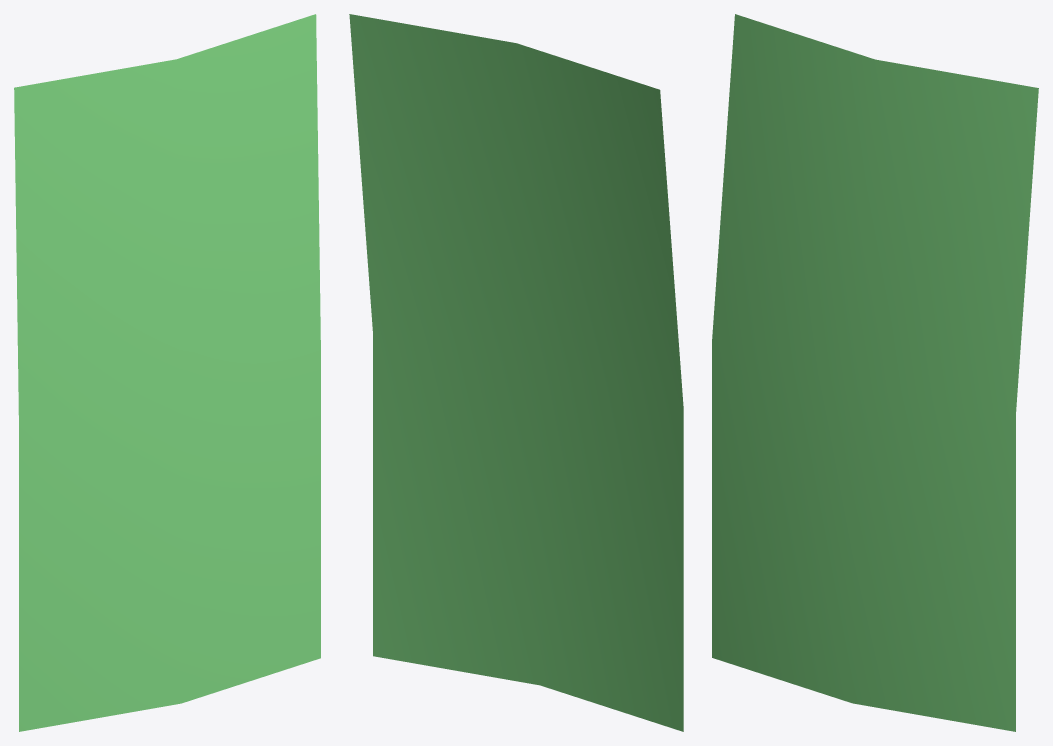
Rendered from GrassPlane_a_TwoS_02.fbx.
The picture shows the model from 3 angles, left to right: view 1: azimuth 30°, elevation 25°; view 2: azimuth 150°, elevation 25°; view 3: azimuth 330°, elevation 25°; orthographic projection. The views are drawn at different scales.
Visible parts, largest first — view 1: GrassPlane_a_TwoS_02; view 2: GrassPlane_a_TwoS_02; view 3: GrassPlane_a_TwoS_02.
Part boxes in pixels (x1,y1,x2,y2): GrassPlane_a_TwoS_02: [14, 14, 320, 731]; GrassPlane_a_TwoS_02: [349, 14, 683, 731]; GrassPlane_a_TwoS_02: [712, 14, 1038, 731].
Size of the model in its own units: 29.72 by 57.71 by 4.19.
